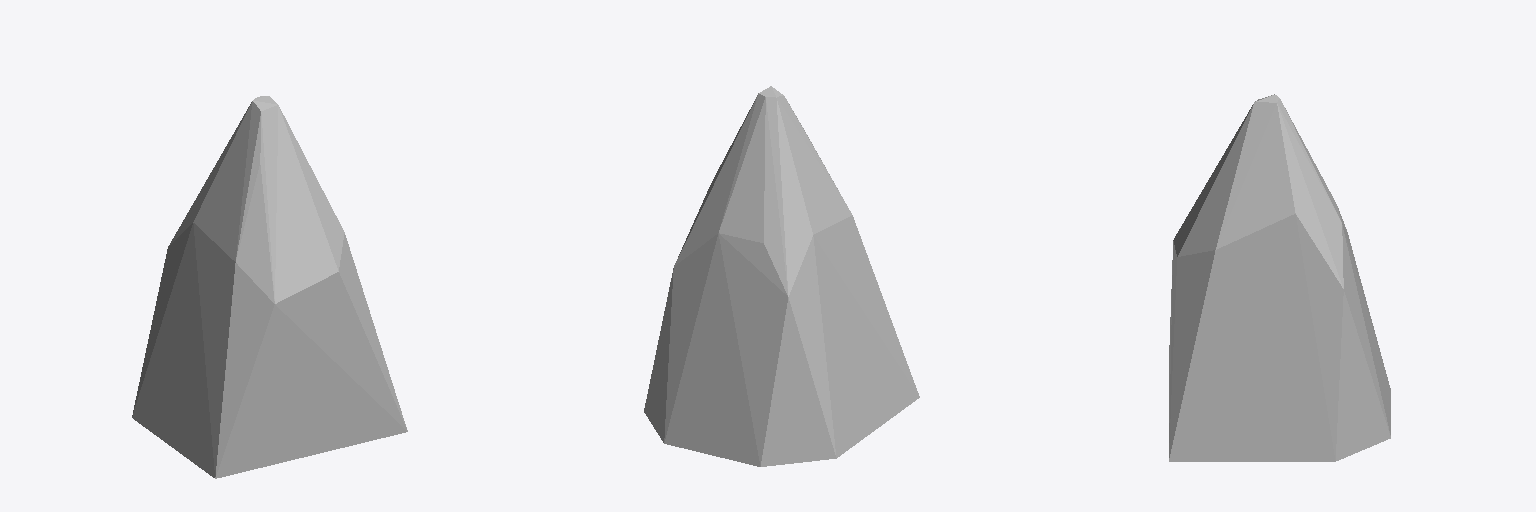
Rendered from raw_model_collision_25.obj.
3 renders of one model, left to right at view 1: azimuth 30°, elevation 25°; view 2: azimuth 150°, elevation 25°; view 3: azimuth 270°, elevation 25°, orthographic.
Bounding box in the file's own units: 0.1301 × 0.2048 × 0.1301.